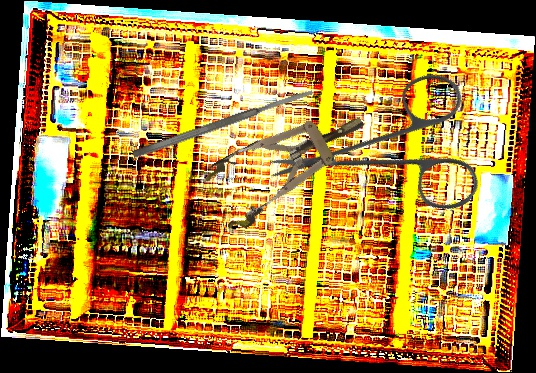Iris Scissors: (264, 21, 521, 279)
Spatula Surgical: (131, 87, 315, 160)
Speculum: (198, 90, 380, 236)
